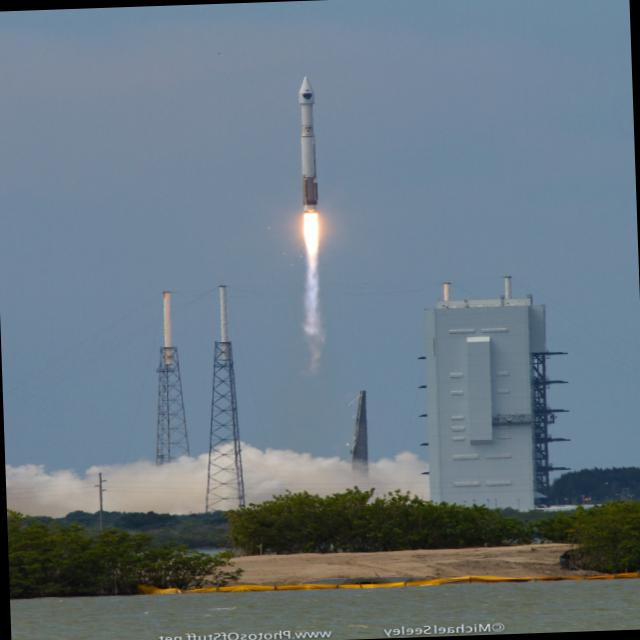rocket: (286, 74, 340, 318)
